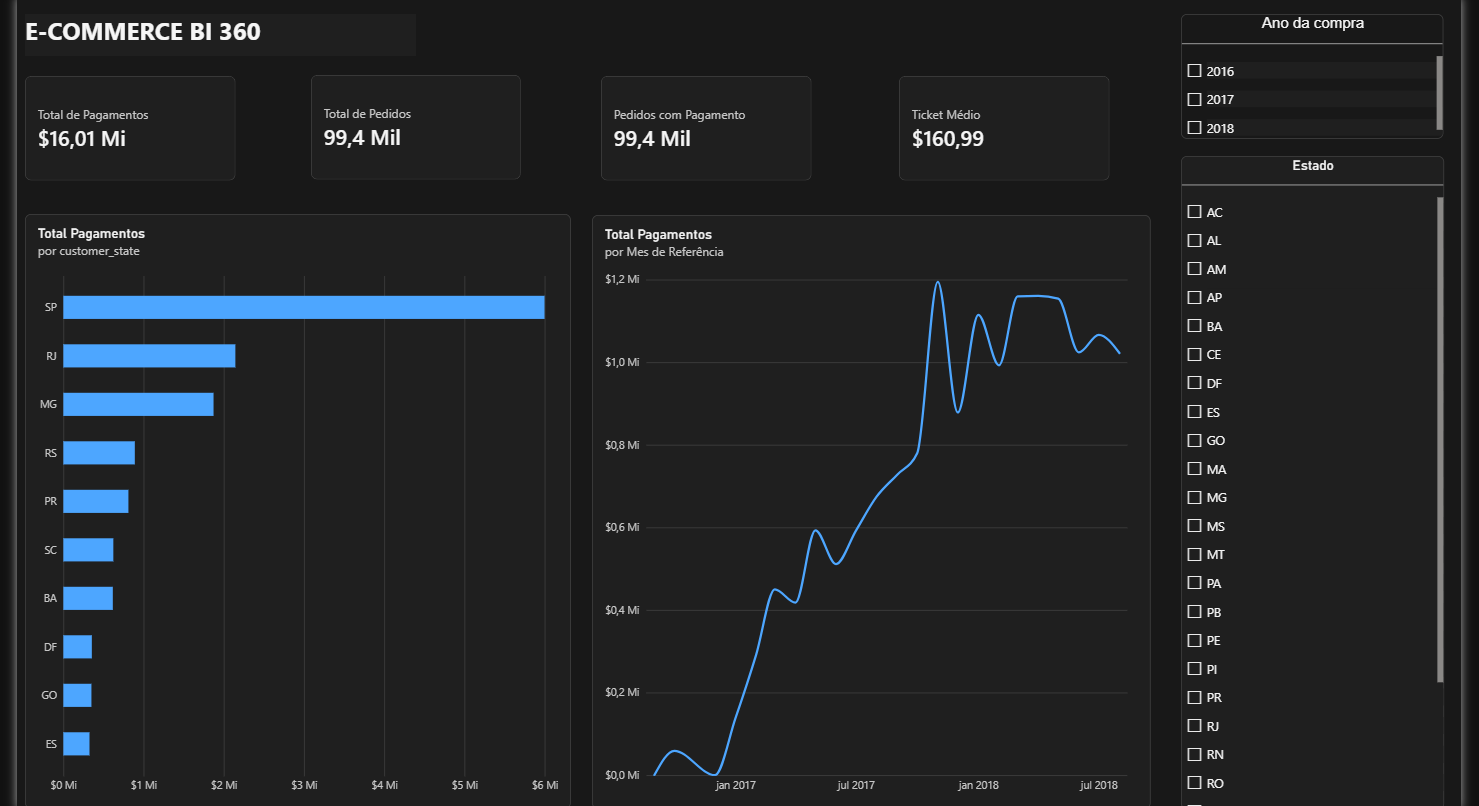

Layout of this report page (visuals, bound fields, positions):
{"tool":"powerbi","page":{"name":"Página 1","canvas":[1920,1080],"ordinal":0},"visuals":[{"type":"cardVisual","fields":{"Data":["analytics pedidos_consolidados.Total Pagamentos"]},"box":[10.6,105.1,280.3,139.4],"z":0},{"type":"cardVisual","fields":{"Data":["analytics pedidos_consolidados.Total Pedidos"]},"box":[391,103.7,279.3,139.7],"z":1000},{"type":"cardVisual","fields":{"Data":["analytics pedidos_consolidados.Pedidos com Pagamento"]},"box":[776.7,105.1,280.6,139.7],"z":2000},{"type":"cardVisual","fields":{"Data":["analytics pedidos_consolidados.Ticket Médio"]},"box":[1173.1,105.1,280.6,139.7],"z":3000},{"type":"clusteredBarChart","fields":{"Category":["analytics pedidos_consolidados.customer_state"],"Y":["analytics pedidos_consolidados.Total Pagamentos"]},"box":[10.6,288.6,726.2,791.4],"z":4000},{"type":"lineChart","fields":{"Category":["analytics pedidos_consolidados.MesReferencia"],"Y":["analytics pedidos_consolidados.Total Pagamentos"]},"box":[764.8,290,743.5,790],"z":5000},{"type":"slicer","title":"Estado","fields":{"Values":["analytics pedidos_consolidados.customer_state"]},"box":[1548.2,211.5,349.8,868.5],"z":6000},{"type":"slicer","title":"Ano da compra","fields":{"Values":["analytics pedidos_consolidados.AnoCompra"]},"box":[1548.3,22.5,349.2,166.4],"z":7000},{"type":"textbox","box":[10.6,22.6,520,55.9],"z":8000}]}

Visuals, with their boxes on the page's 1920x1080 design canvas (x1, y1, x2, y2). These are canvas units, not pixel positions in the 1479x806 screenshot, which may show the page scaled, cropped or inside an application window:
cardVisual - analytics pedidos_consolidados.Total Pagamentos: region(11, 105, 291, 244)
cardVisual - analytics pedidos_consolidados.Total Pedidos: region(391, 104, 670, 243)
cardVisual - analytics pedidos_consolidados.Pedidos com Pagamento: region(777, 105, 1057, 245)
cardVisual - analytics pedidos_consolidados.Ticket Médio: region(1173, 105, 1454, 245)
clusteredBarChart - analytics pedidos_consolidados.customer_state x analytics pedidos_consolidados.Total Pagamentos: region(11, 289, 737, 1080)
lineChart - analytics pedidos_consolidados.MesReferencia x analytics pedidos_consolidados.Total Pagamentos: region(765, 290, 1508, 1080)
"Estado" slicer: region(1548, 212, 1898, 1080)
"Ano da compra" slicer: region(1548, 22, 1898, 189)
textbox: region(11, 23, 531, 78)
